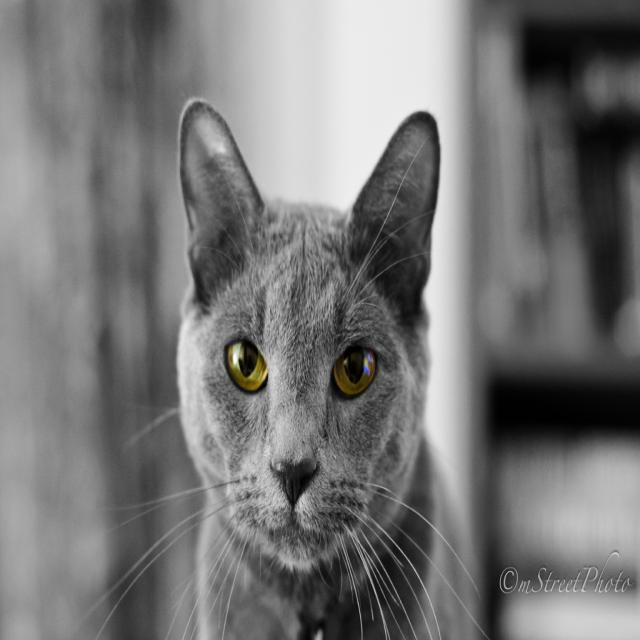Cat: (83, 95, 478, 638)
